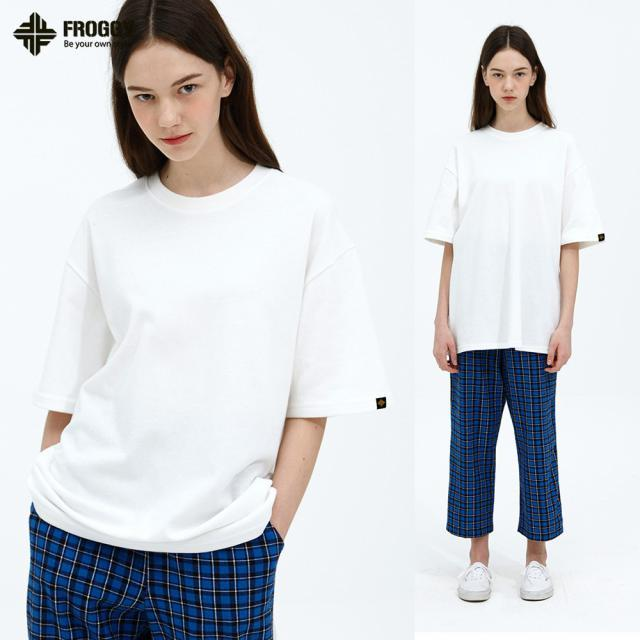Shirt: (24, 158, 392, 548), (420, 120, 610, 350)
